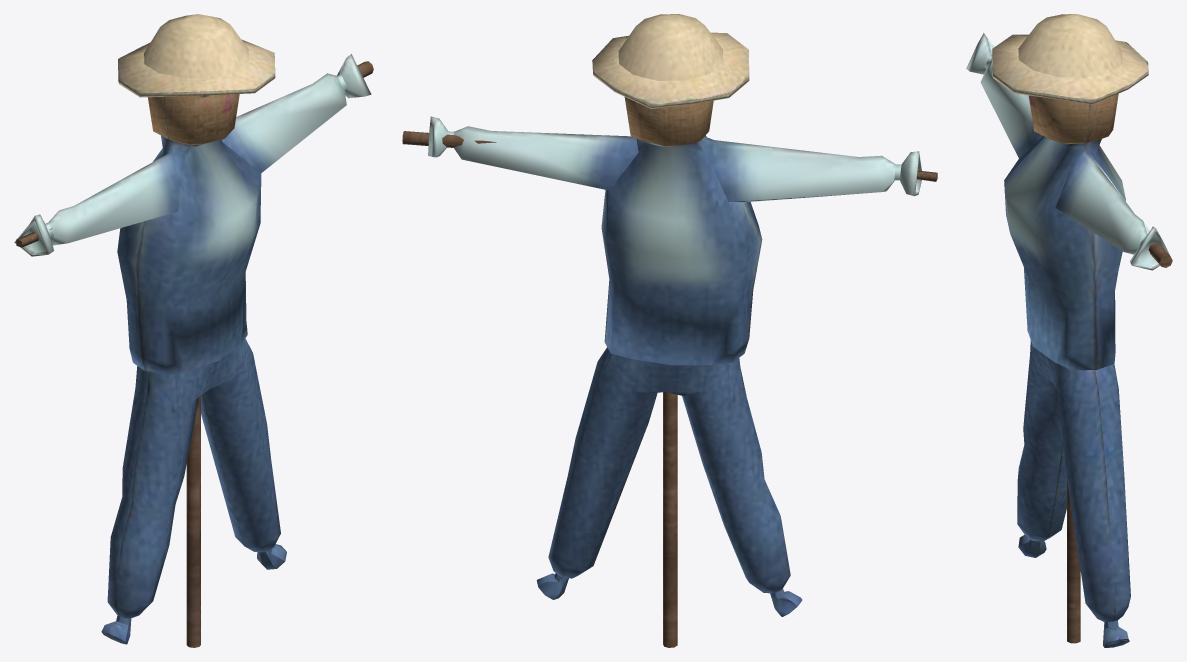
The model's file is scarecrow.glb.
3 views of the same model, side by side, from view 1: azimuth 30°, elevation 25°; view 2: azimuth 150°, elevation 25°; view 3: azimuth 270°, elevation 25° (orthographic).
Visible parts, largest first — view 1: prefab; view 2: prefab; view 3: prefab.
Part boxes in pixels (left/top/right/bottom): prefab: left=14, top=14, right=373, bottom=647; prefab: left=402, top=14, right=937, bottom=647; prefab: left=966, top=14, right=1172, bottom=647.
Size of the model in its own units: 1.41 by 1.89 by 0.5692.
Materials: 1 (1 with a texture image).
